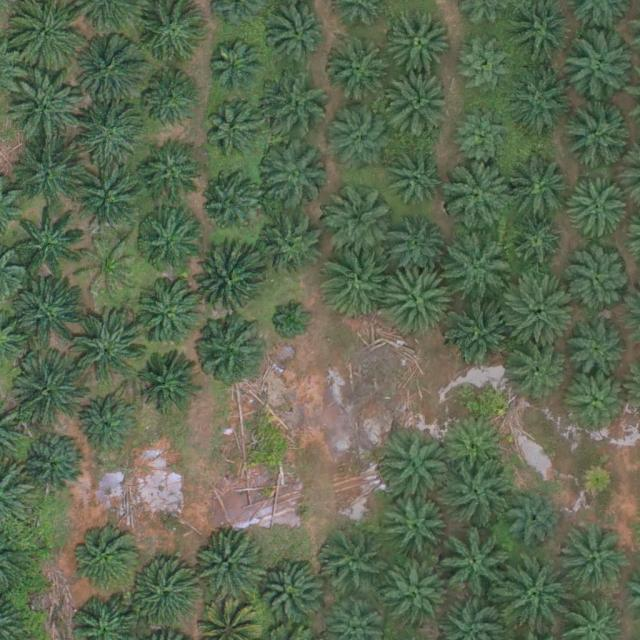Dead: (79, 233, 142, 296)
Healthy: (439, 225, 510, 296), (381, 265, 452, 336), (257, 141, 328, 212), (15, 277, 86, 348), (559, 35, 630, 105), (558, 100, 628, 171), (505, 155, 575, 226), (441, 162, 511, 233), (447, 299, 518, 369), (322, 37, 392, 108), (317, 249, 387, 320), (499, 564, 570, 634), (440, 532, 511, 602), (381, 434, 452, 504), (383, 552, 453, 623), (317, 529, 387, 600), (254, 560, 325, 630), (125, 560, 195, 631), (194, 247, 265, 317), (196, 319, 266, 390), (137, 278, 207, 349), (75, 98, 145, 169), (76, 168, 146, 239), (73, 312, 143, 383), (71, 521, 141, 592), (15, 356, 85, 427), (9, 74, 80, 144), (139, 2, 209, 73), (80, 33, 150, 104), (507, 68, 577, 138), (505, 273, 575, 343), (387, 70, 457, 140), (322, 104, 392, 174), (322, 178, 392, 248), (560, 524, 630, 594), (444, 459, 514, 529), (194, 533, 264, 603), (262, 68, 332, 138), (14, 207, 84, 277), (16, 135, 86, 205), (384, 8, 454, 78), (502, 342, 565, 405), (385, 215, 448, 278), (137, 352, 200, 415), (567, 179, 629, 242), (567, 249, 629, 312), (568, 318, 630, 381), (388, 144, 450, 207), (444, 415, 506, 478), (386, 499, 448, 562), (263, 216, 325, 279), (199, 173, 261, 236), (135, 210, 198, 272), (21, 432, 83, 495), (267, 4, 329, 67), (568, 371, 630, 433), (140, 147, 202, 209), (77, 398, 139, 460), (508, 216, 563, 271), (456, 109, 511, 164), (511, 490, 566, 545), (206, 103, 261, 158), (141, 74, 196, 129), (457, 41, 512, 96), (208, 38, 263, 93)
Small: (269, 296, 316, 343)
Yellow: (576, 463, 615, 503)
